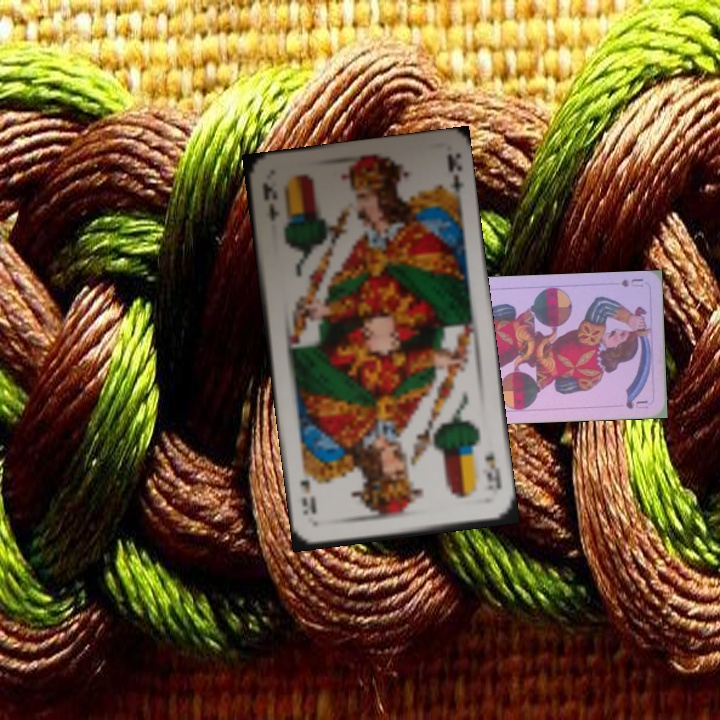EK: (480, 447, 505, 492), (258, 179, 282, 224)
SU: (617, 274, 646, 289)
